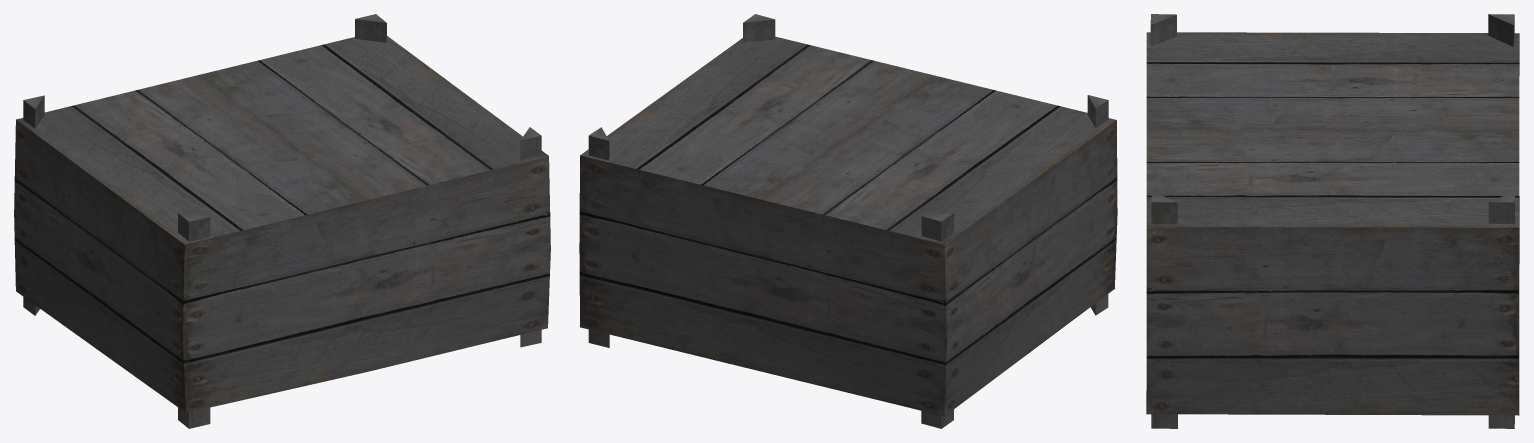
File: Crate02_LOD02.fbx
3 renders of one model, left to right at view 1: azimuth 30°, elevation 25°; view 2: azimuth 150°, elevation 25°; view 3: azimuth 270°, elevation 25°, orthographic. The views are drawn at different scales.
Parts seen in each view (by area): view 1: Mesh Object; view 2: Mesh Object; view 3: Mesh Object.
Part boxes in pixels (x1=…): Mesh Object: x1=14, y1=14, x2=550, y2=428; Mesh Object: x1=579, y1=14, x2=1117, y2=428; Mesh Object: x1=1146, y1=14, x2=1519, y2=428.
Size of the model in its own units: 0.6318 by 0.3394 by 0.5067.
